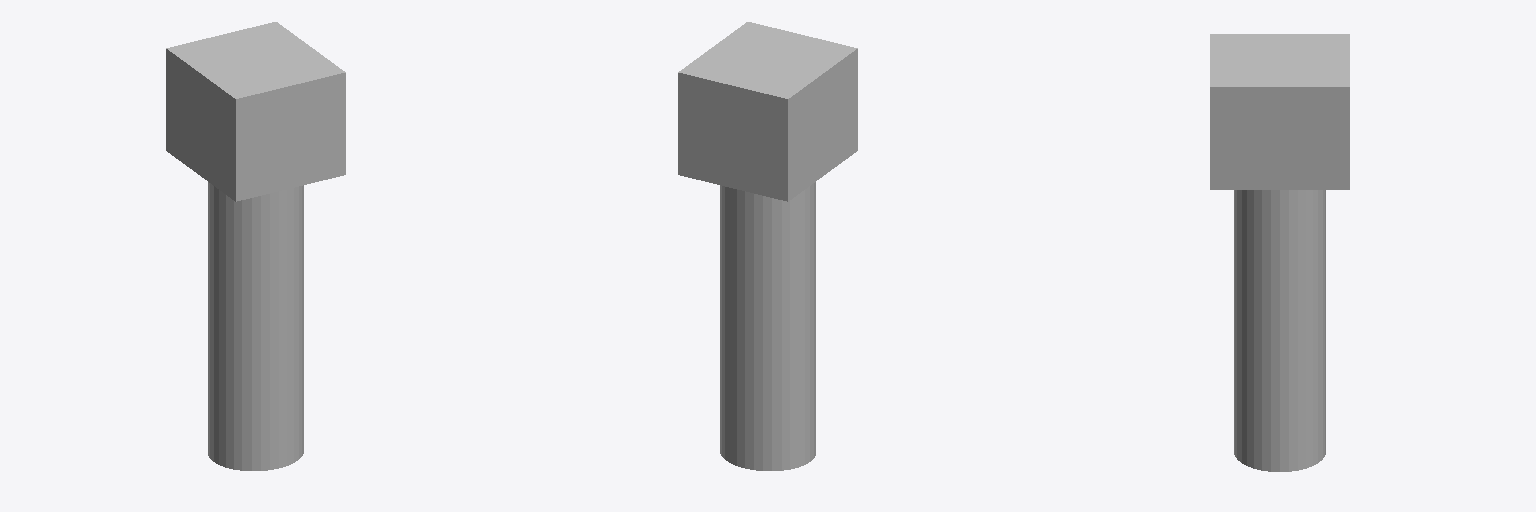
Rendered from scaleArrow.obj.
The picture shows the model from 3 angles: view 1: azimuth 30°, elevation 25°; view 2: azimuth 150°, elevation 25°; view 3: azimuth 270°, elevation 25°; orthographic projection.
Visible parts, largest first — view 1: Cube; view 2: Cube; view 3: Cube.
Boxes of the visible parts, box(x1,y1,x2,y2) form: Cube: box(166, 22, 345, 470); Cube: box(678, 22, 857, 470); Cube: box(1210, 34, 1349, 471).
Bounding box in the file's own units: 0.8359 × 2.84 × 0.9156.